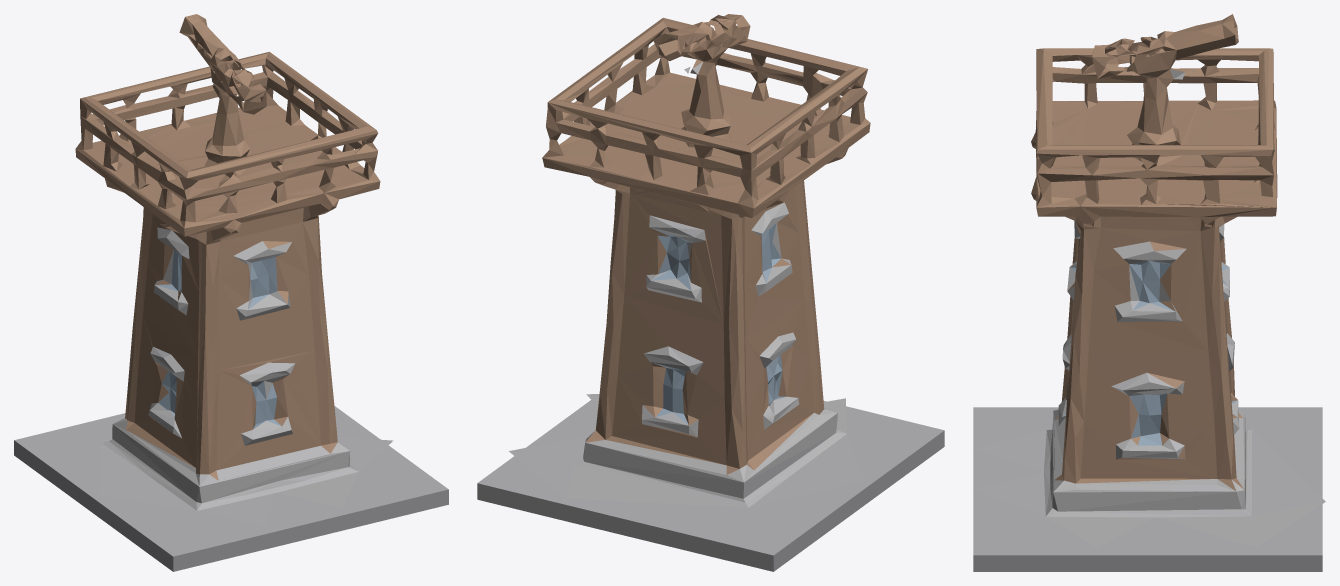
The picture shows the model from 3 angles, left to right: view 1: azimuth 30°, elevation 25°; view 2: azimuth 150°, elevation 25°; view 3: azimuth 270°, elevation 25°; orthographic projection. The views are drawn at different scales.
Parts seen in each view (by area): view 1: geometry_0; view 2: geometry_0; view 3: geometry_0.
Boxes of the visible parts, x1,y1,x2,y2 form: geometry_0: (14,14,448,571); geometry_0: (477,14,944,571); geometry_0: (973,14,1325,571).
Bounding box in the file's own units: 0.6639 × 0.9998 × 0.6662.
